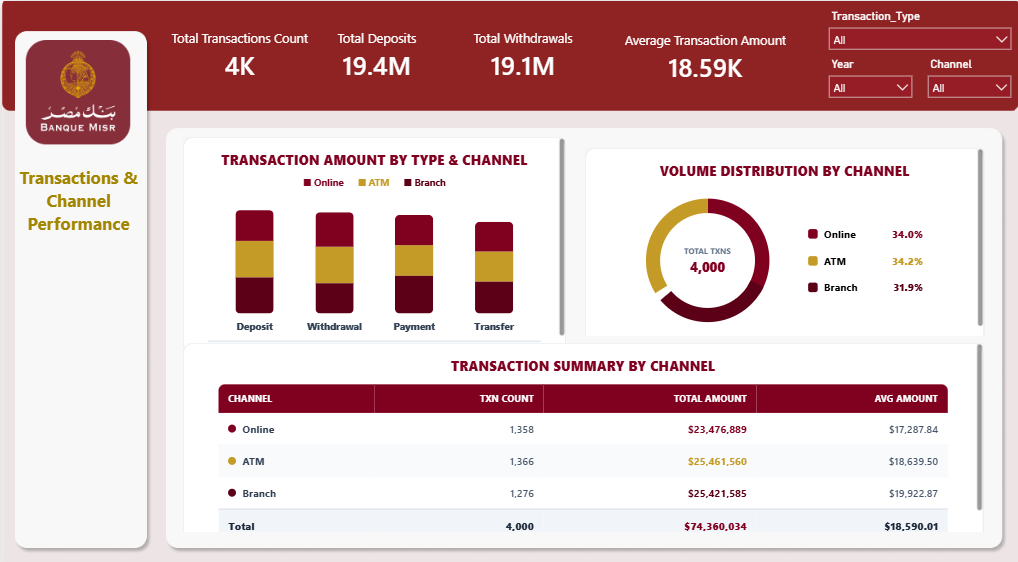

What the dashboard file says about the page in this screenshot:
{"tool":"powerbi","page":{"name":"Transactions & Channels","canvas":[1280,720],"ordinal":2},"visuals":[{"type":"image","box":[12.1,48.3,169,131],"z":0},{"type":"textbox","box":[11.3,202.2,170.1,111.5],"z":1000},{"type":"cardVisual","fields":{"Data":["Dax.Total Transactions Count"]},"box":[181.4,0,236.2,136.1],"z":2000},{"type":"cardVisual","fields":{"Data":["Dax.Total Deposits"]},"box":[391.2,0,162.5,136.1],"z":3000},{"type":"cardVisual","fields":{"Data":["Dax.Total Withdrawals"]},"box":[561.3,0,190.9,136.1],"z":4000},{"type":"cardVisual","fields":{"Data":["Dax.Average Transaction Amount"]},"box":[752.1,5.7,264.6,130.4],"z":5000},{"type":"slicer","fields":{"Values":["Dim_Date.Year"]},"box":[1029.9,66.1,124.7,69.9],"z":6000},{"type":"slicer","fields":{"Values":["Dim_Transactions Attributes.Channel"]},"box":[1154.7,66.1,124.7,69.9],"z":7000},{"type":"slicer","fields":{"Values":["Dim_Transactions Attributes.Transaction_Type"]},"box":[1029.9,5.7,249.5,60.5],"z":8000},{"type":"htmlContent443BE3AD55E043BF878BED274D3A6855","fields":{"content":["Dax.HTML_Txn_Type_Channel_Chart"]},"box":[223,166.3,491.3,272.1],"z":9000},{"type":"htmlContent443BE3AD55E043BF878BED274D3A6855","fields":{"content":["Dax.HTML_Txn_Volume_Donut_Chart"]},"box":[727.6,179.5,512.1,245.7],"z":10000},{"type":"htmlContent443BE3AD55E043BF878BED274D3A6855","fields":{"content":["Dax.HTML_Txn_Summary_Table"]},"box":[223,425.2,1016.7,247.6],"z":11000}]}

Visuals, with their boxes in screenshot pixels (x1, y1, x2, y2), scaled from the page's 1280x720 canvas onto the 1018x562 screenshot:
image: 10, 38, 144, 140
textbox: 9, 158, 144, 245
cardVisual - Dax.Total Transactions Count: 144, 0, 332, 106
cardVisual - Dax.Total Deposits: 311, 0, 440, 106
cardVisual - Dax.Total Withdrawals: 446, 0, 598, 106
cardVisual - Dax.Average Transaction Amount: 598, 4, 809, 106
slicer - Dim_Date.Year: 819, 52, 918, 106
slicer - Dim_Transactions Attributes.Channel: 918, 52, 1017, 106
slicer - Dim_Transactions Attributes.Transaction_Type: 819, 4, 1017, 52
htmlContent443BE3AD55E043BF878BED274D3A6855 - Dax.HTML_Txn_Type_Channel_Chart: 177, 130, 568, 342
htmlContent443BE3AD55E043BF878BED274D3A6855 - Dax.HTML_Txn_Volume_Donut_Chart: 579, 140, 986, 332
htmlContent443BE3AD55E043BF878BED274D3A6855 - Dax.HTML_Txn_Summary_Table: 177, 332, 986, 525
